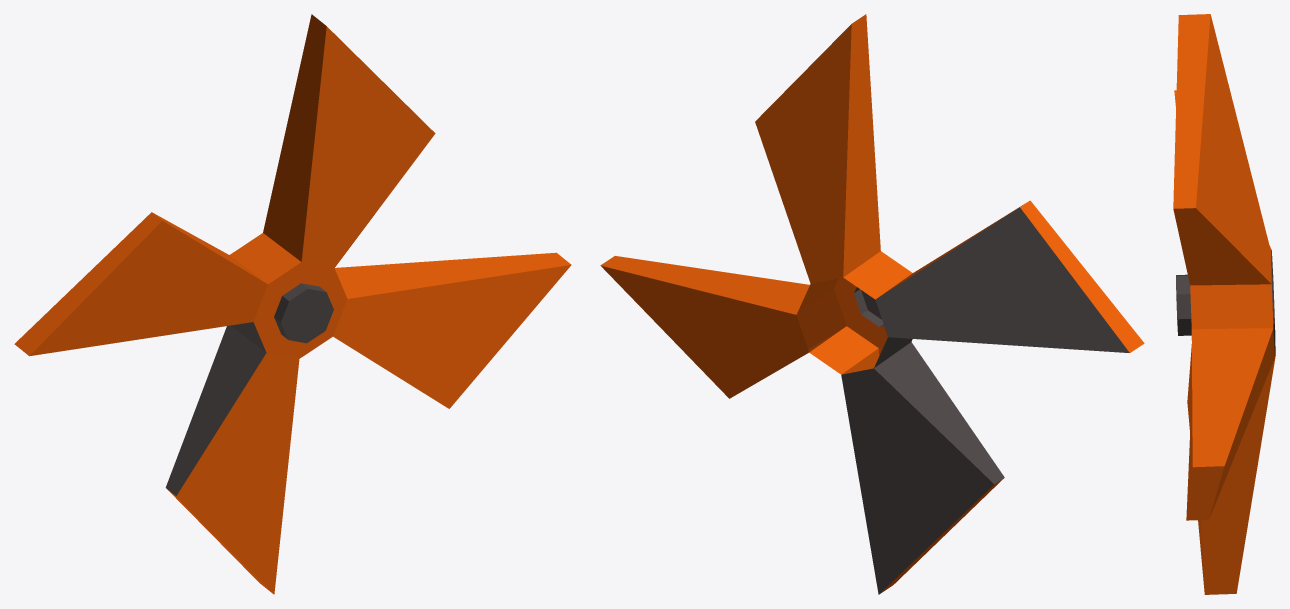
File: 农风车1.fbx
3 renders of one model, left to right at view 1: azimuth 30°, elevation 25°; view 2: azimuth 150°, elevation 25°; view 3: azimuth 270°, elevation 25°, orthographic. The views are drawn at different scales.
Visible parts, largest first — view 1: 柱体.014; view 2: 柱体.014; view 3: 柱体.014.
Part boxes in pixels (box(x1,y1,x2,y2)): 柱体.014: box(14, 14, 571, 594); 柱体.014: box(600, 14, 1144, 594); 柱体.014: box(1173, 14, 1275, 594).
Size of the model in its own units: 39.41 by 39.46 by 6.09.
